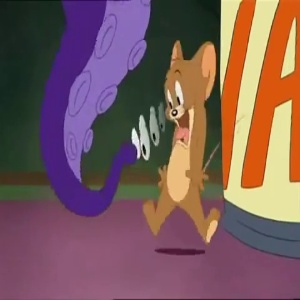Jerry: (163, 41, 216, 148)
